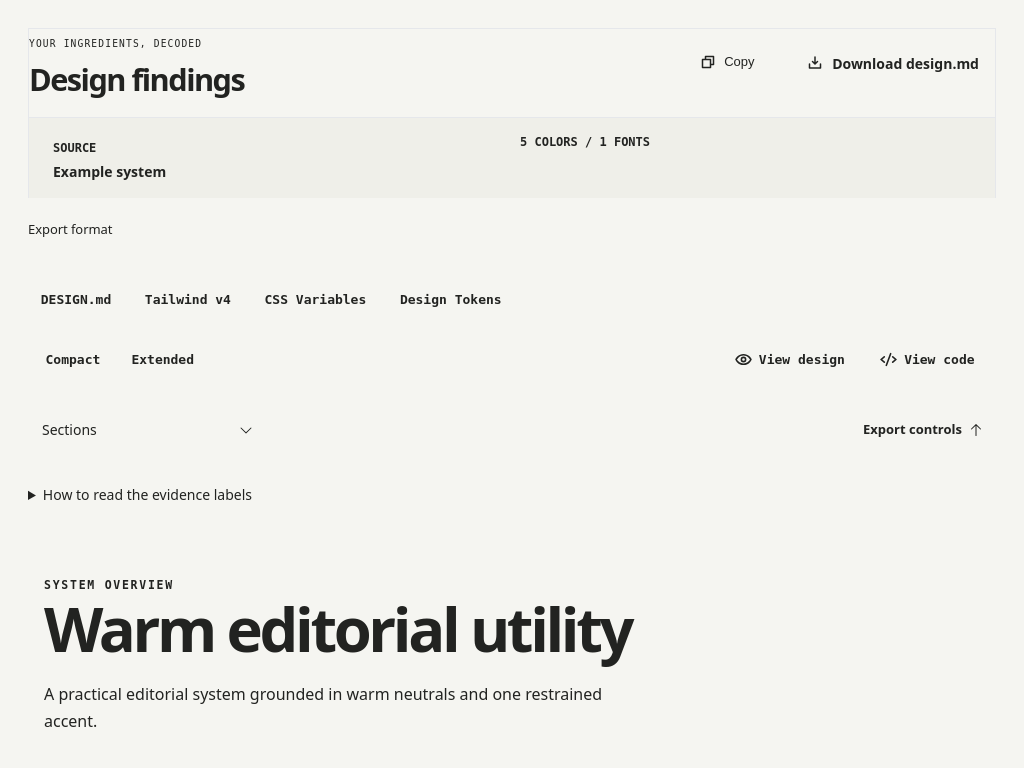
Scenario: ResultPanel experience › shows the exact selected format in Raw with format-specific highlighting
Click the tab "Design Tokens". click: (451, 300)
box: [387,278,514,322]
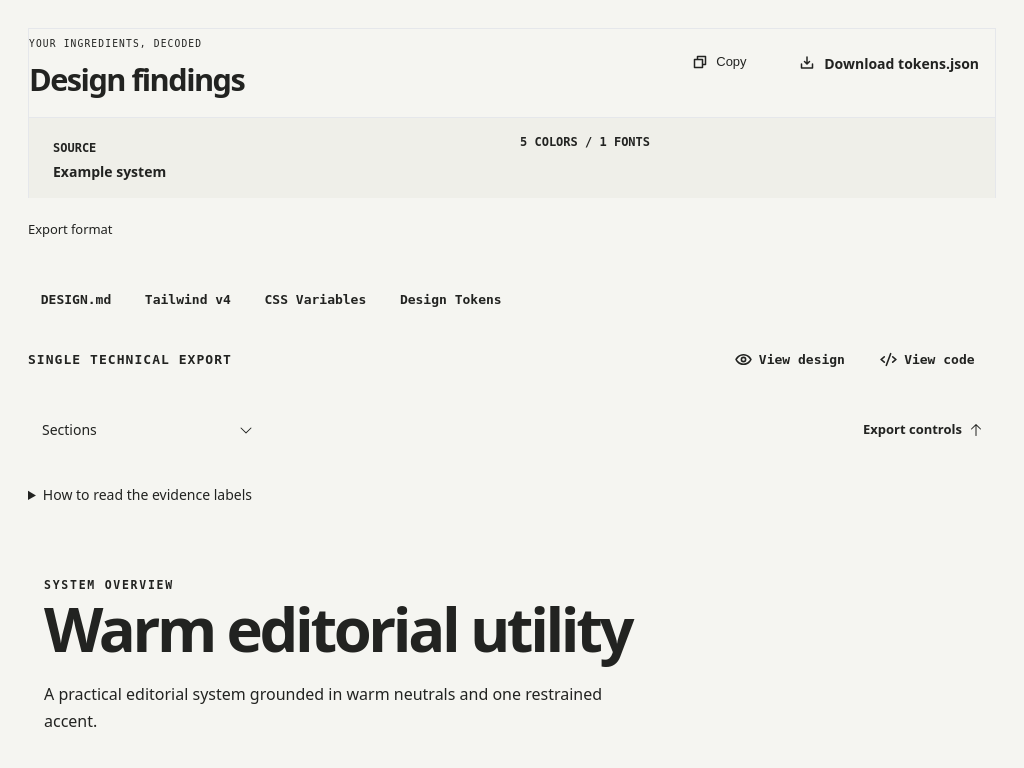
Click the button "View code". click: (927, 360)
box: [858,338,996,382]
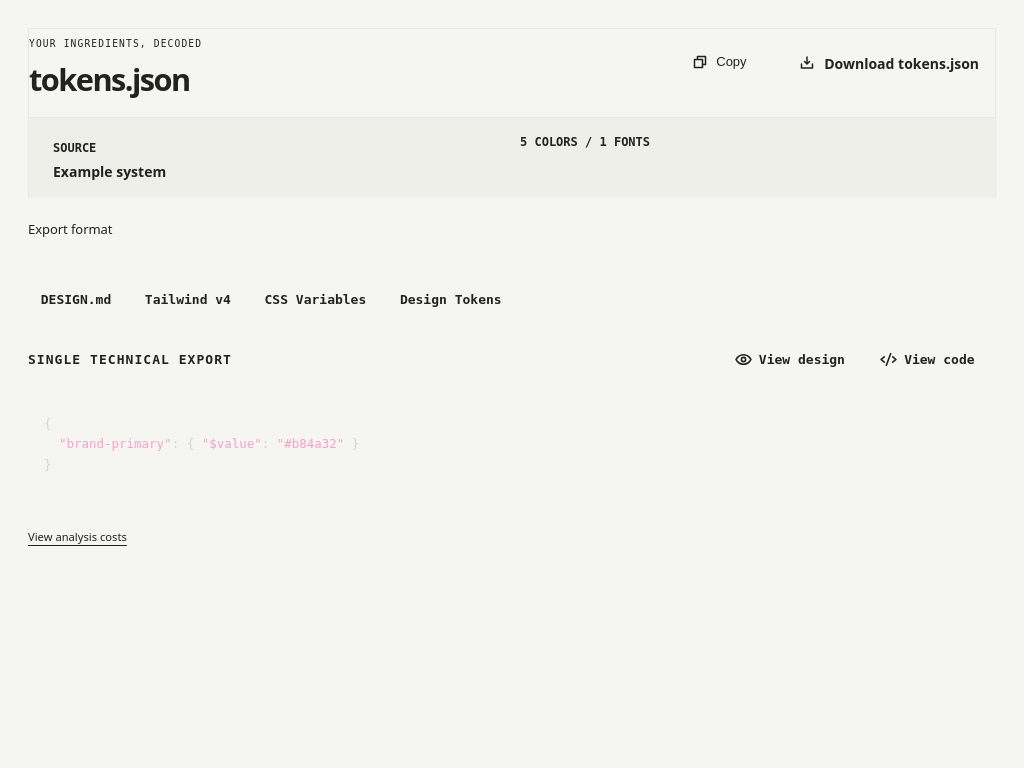
Expected: the button "Download tokens.json" is shown, [783,40,995,86]
Expected: the element named "Design Tokens raw output" shows "\"brand-primary\": { \"$value\": \"#b84a32\" }", [44,416,359,472]
Expected: the text "\"brand-primary\"" is shown, [59,436,172,451]
